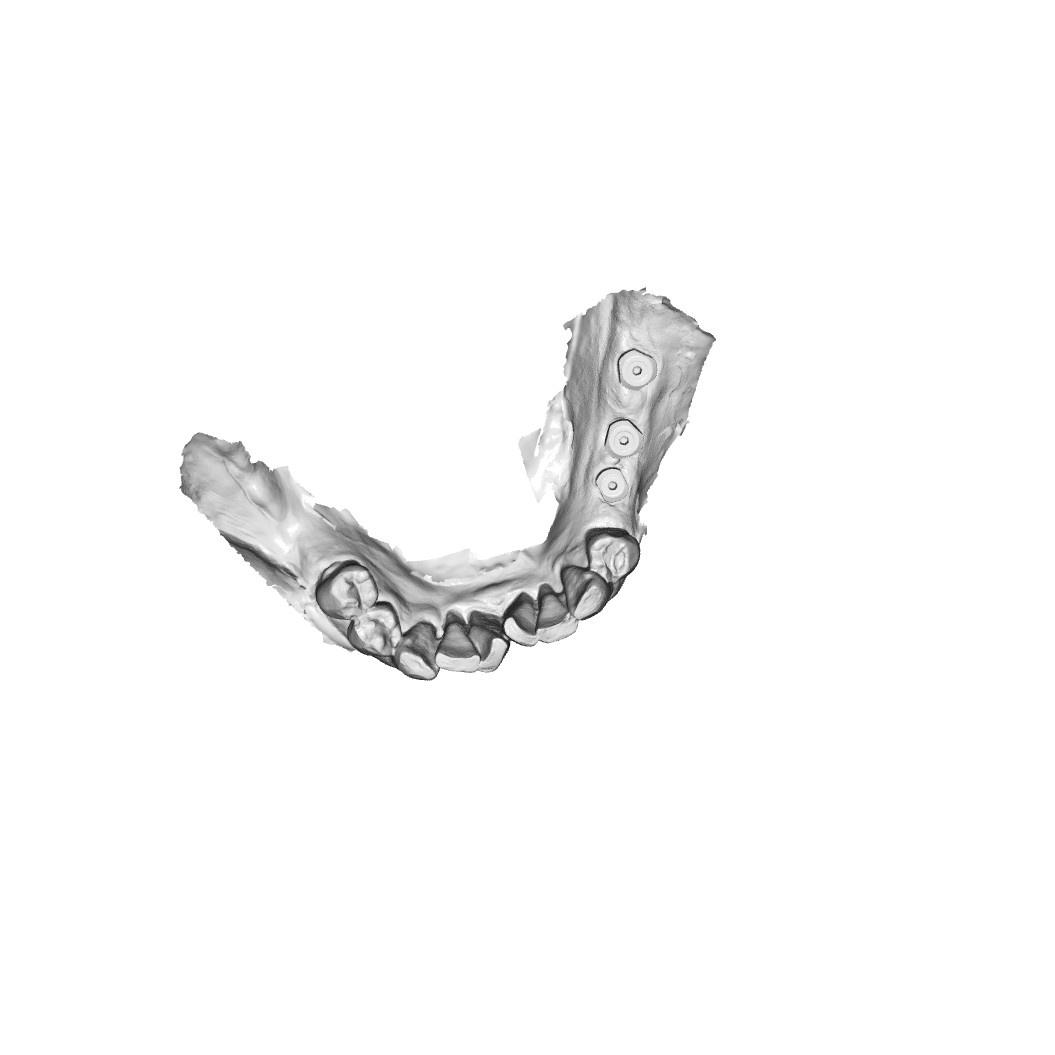canine: (395, 621, 442, 693), (566, 566, 606, 617)
implant: (615, 338, 659, 396), (606, 415, 651, 459), (595, 468, 632, 502)
incisor: (538, 584, 578, 639), (504, 590, 545, 642), (438, 616, 478, 666), (472, 621, 509, 665)
premolar: (584, 522, 646, 583), (354, 605, 404, 666), (324, 561, 374, 619)
